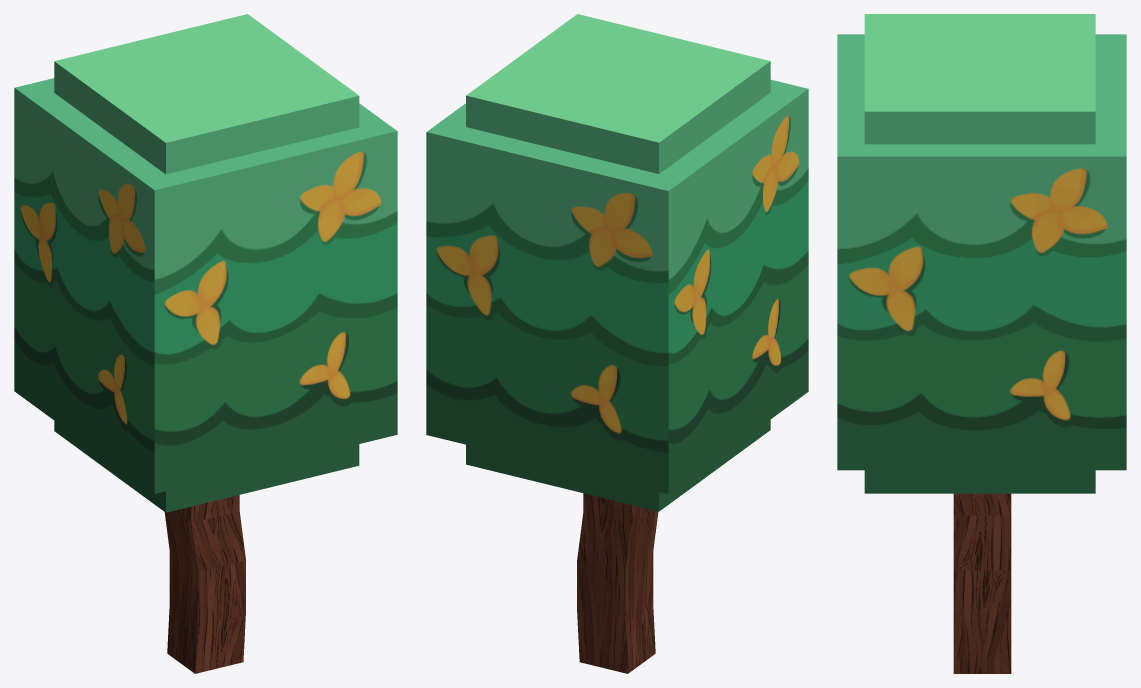
The model's file is Tree4@Model.fbx.
The picture shows the model from 3 angles, left to right: view 1: azimuth 30°, elevation 25°; view 2: azimuth 150°, elevation 25°; view 3: azimuth 270°, elevation 25°; orthographic projection. The views are drawn at different scales.
Visible parts, largest first — view 1: Tree4; view 2: Tree4; view 3: Tree4.
Boxes of the visible parts, bbox=[...] form: Tree4: bbox=[14, 14, 397, 673]; Tree4: bbox=[426, 14, 808, 673]; Tree4: bbox=[837, 14, 1126, 673].
Bounding box in the file's own units: 210 × 479 × 210.
